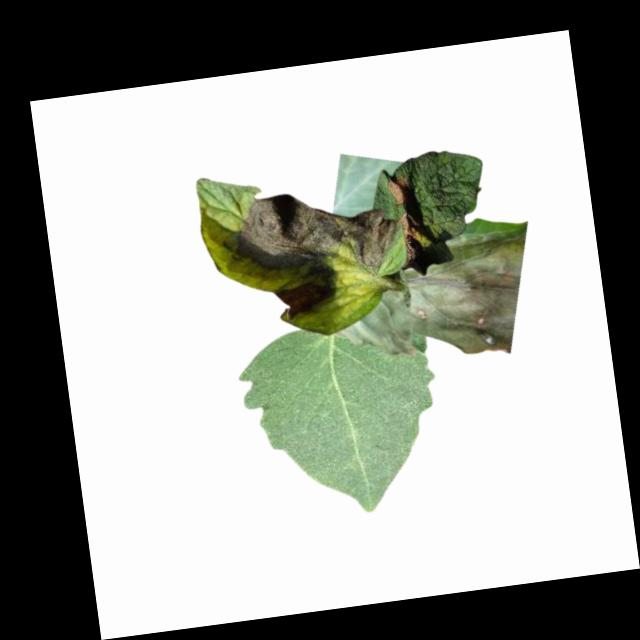Late_blight: (326, 227, 546, 372), (231, 179, 401, 283), (272, 277, 334, 321), (386, 173, 416, 205), (399, 210, 422, 245)
